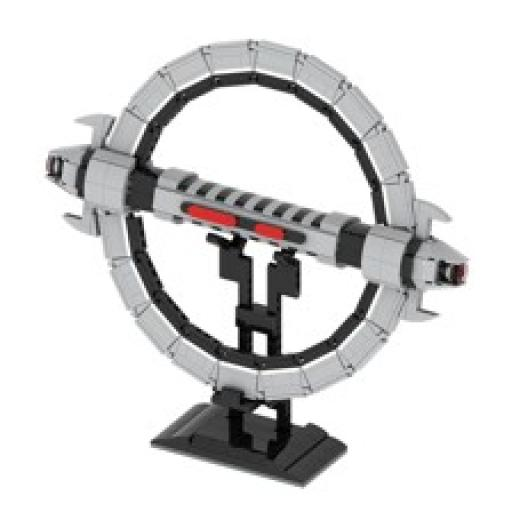lightsaber: (47, 112, 469, 331)
